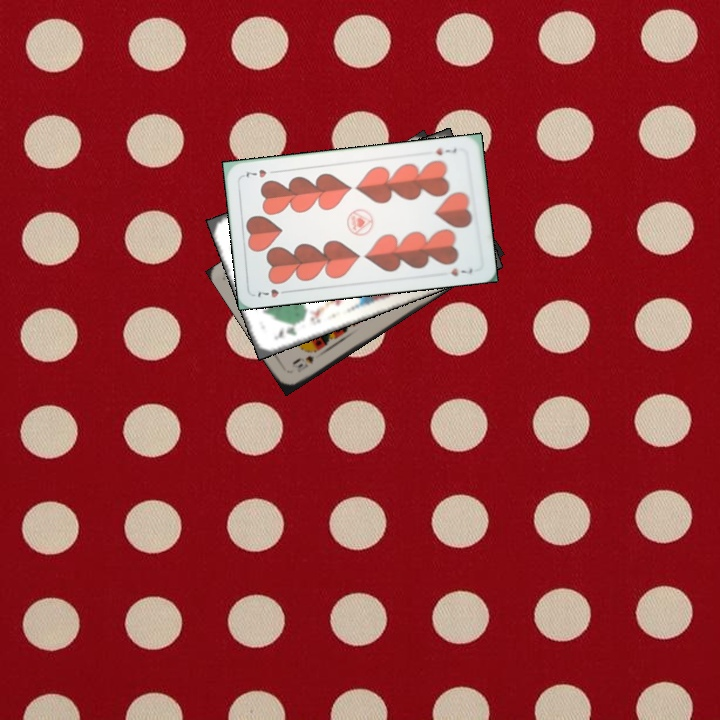GK: (269, 318, 304, 342)
H7: (253, 285, 293, 300), (432, 144, 459, 158)
S10: (293, 352, 317, 375)
